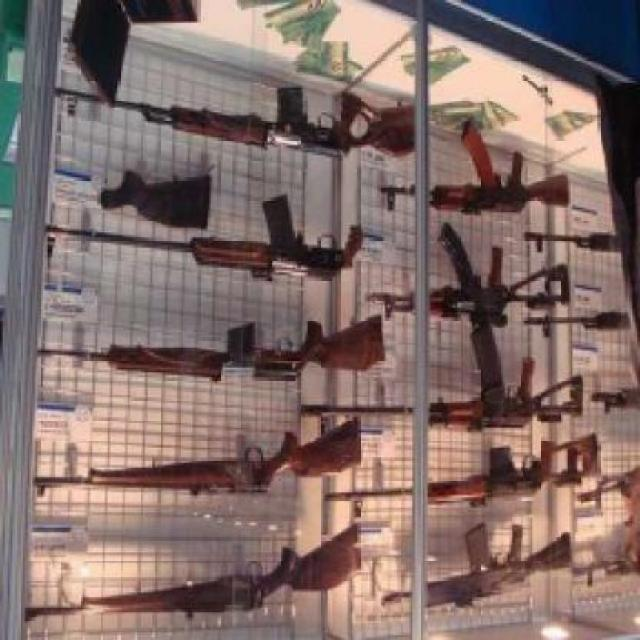Rifle: (22, 522, 361, 623), (295, 321, 584, 435), (52, 82, 414, 161), (49, 191, 362, 282), (31, 413, 361, 497), (37, 313, 385, 384), (361, 220, 573, 331), (324, 432, 602, 509), (377, 115, 568, 216), (378, 520, 571, 612), (522, 311, 631, 337), (526, 231, 631, 254), (579, 464, 640, 503), (571, 556, 640, 590), (592, 387, 639, 416)
